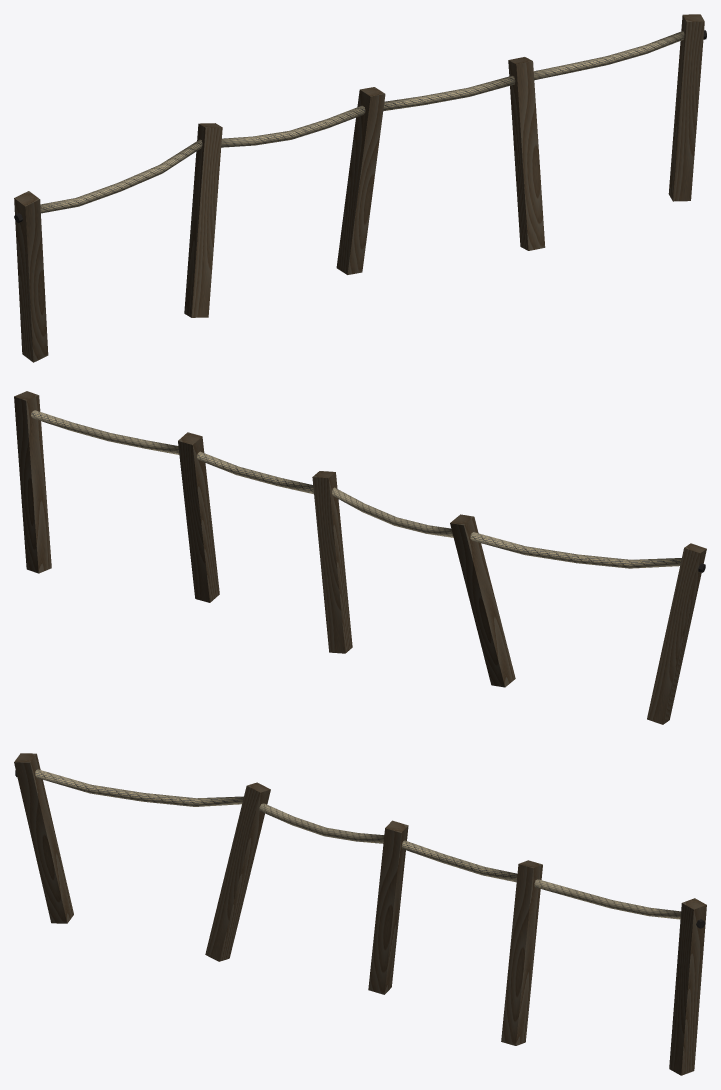
Rendered from rope_fence03.dae.
The picture shows the model from 3 angles, top to bottom: view 1: azimuth 30°, elevation 25°; view 2: azimuth 150°, elevation 25°; view 3: azimuth 330°, elevation 25°; orthographic projection. The views are drawn at different scales.
Parts seen in each view (by area): view 1: RopeFence2; view 2: RopeFence2; view 3: RopeFence2.
Part boxes in pixels (<box>): RopeFence2: <box>14,14,706,362</box>; RopeFence2: <box>14,391,706,724</box>; RopeFence2: <box>14,753,706,1075</box>.
Bounding box in the file's own units: 4.36 × 0.4307 × 1.07.
2 materials, 2 textured.
